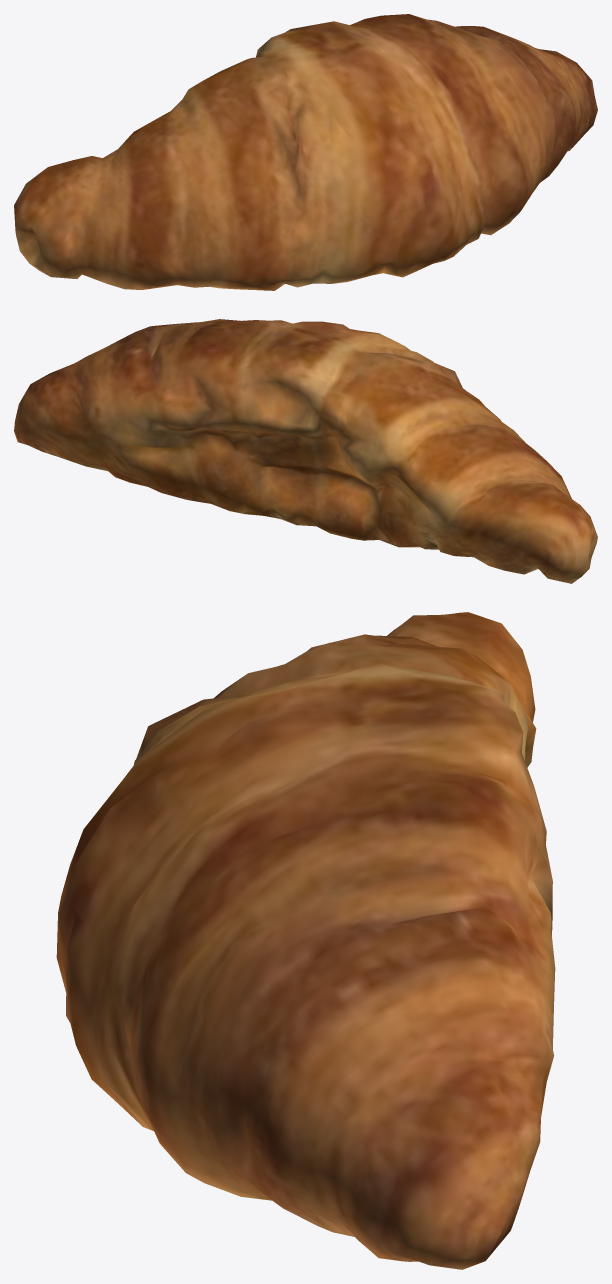
The model's file is croissant.glb.
3 renders of one model, top to bottom at view 1: azimuth 30°, elevation 25°; view 2: azimuth 150°, elevation 25°; view 3: azimuth 270°, elevation 25°, orthographic. The views are drawn at different scales.
Visible parts, largest first — view 1: croissant; view 2: croissant; view 3: croissant.
Boxes of the visible parts, x1=… form: croissant: x1=14, y1=14, x2=597, y2=290; croissant: x1=14, y1=319, x2=597, y2=583; croissant: x1=56, y1=612, x2=555, y2=1269.
Bounding box in the file's own units: 0.2 × 0.062 × 0.0755.
1 material, 1 textured.
